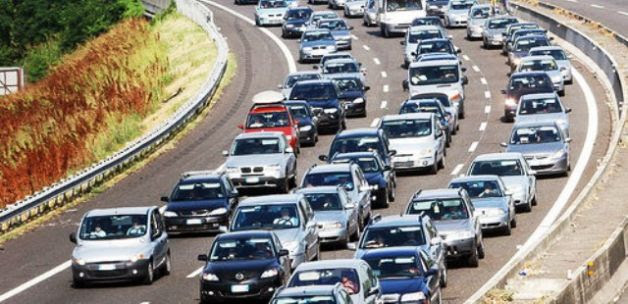car: (64, 212, 174, 285), (153, 172, 245, 237), (194, 233, 286, 298), (211, 131, 303, 196), (399, 188, 491, 253), (367, 109, 459, 174), (400, 56, 471, 105), (505, 122, 576, 171), (500, 68, 571, 117)
